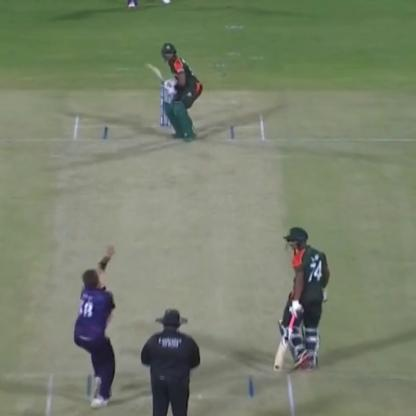bat: (272, 294, 298, 378), (142, 60, 172, 95)
pitch: (42, 109, 298, 416)
